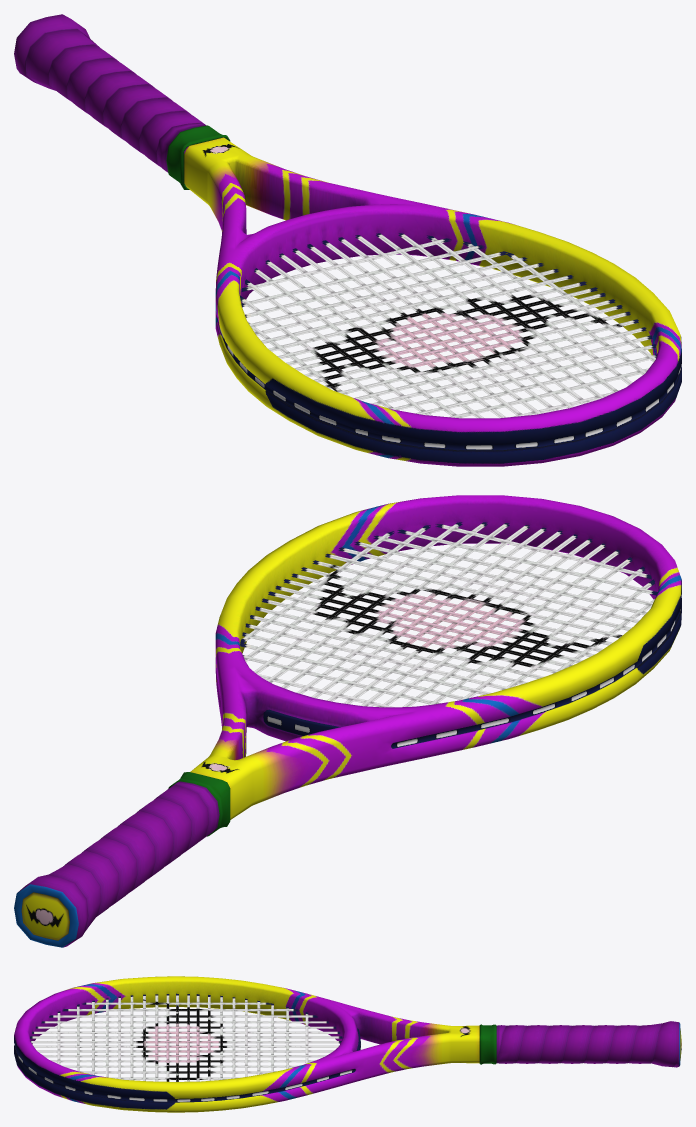
The model's file is RacquetWario.obj.
The picture shows the model from 3 angles, top to bottom: view 1: azimuth 30°, elevation 25°; view 2: azimuth 150°, elevation 25°; view 3: azimuth 270°, elevation 25°; orthographic projection. The views are drawn at different scales.
Visible parts, largest first — view 1: TennisRacquet_Wario; view 2: TennisRacquet_Wario; view 3: TennisRacquet_Wario.
Part boxes in pixels (x1,y1,x2,y2): TennisRacquet_Wario: (14,14,681,466); TennisRacquet_Wario: (14,495,681,947); TennisRacquet_Wario: (14,976,681,1112).
Bounding box in the file's own units: 4.6 × 0.7137 × 11.49.
2 materials, 2 textured.
